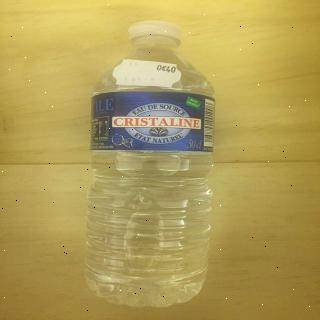Plastic-bottle: (80, 20, 222, 312)
